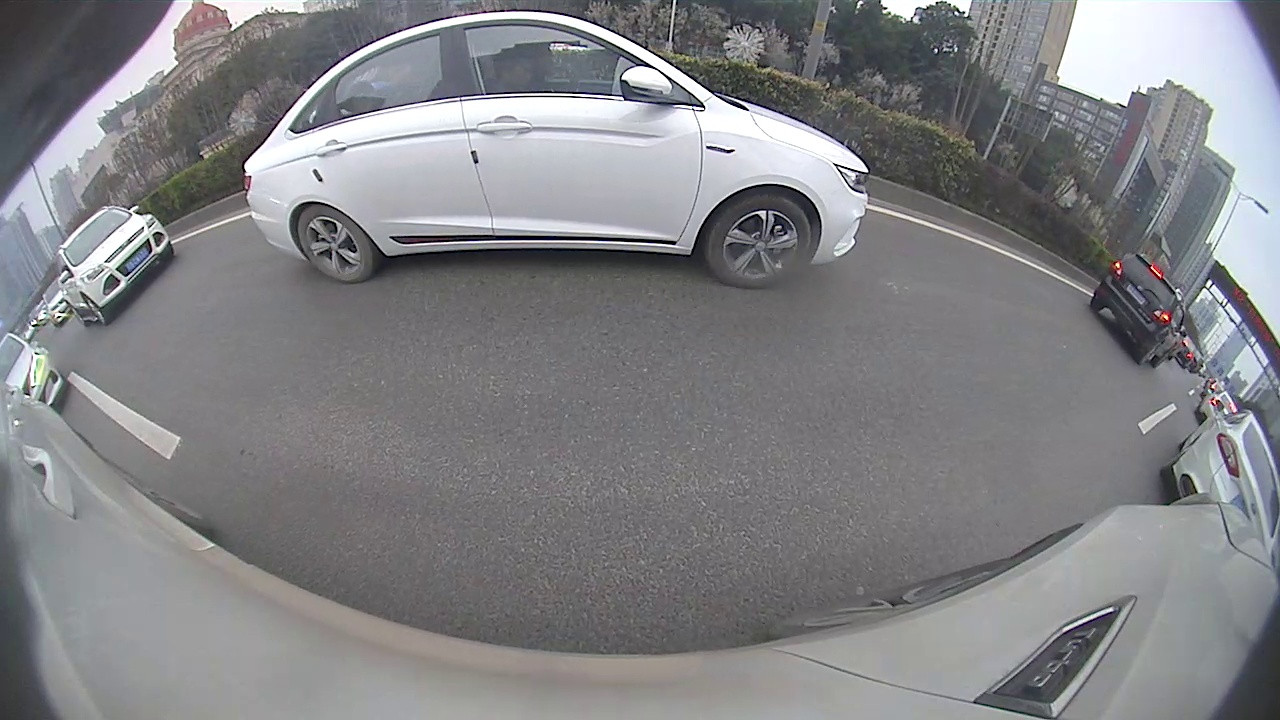car: (241, 10, 871, 292), (1160, 400, 1278, 550), (52, 202, 177, 327), (1089, 251, 1192, 370), (2, 330, 71, 414)
front: (705, 193, 813, 292), (83, 296, 109, 327)
rear: (297, 203, 377, 284)
